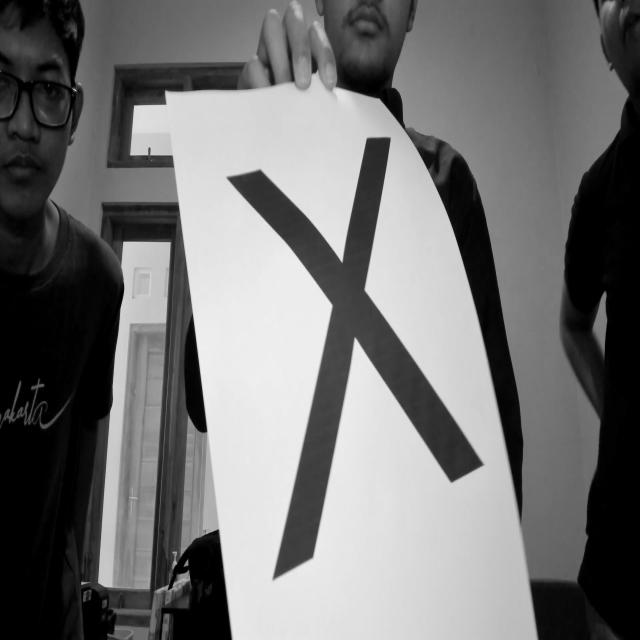x: (222, 116, 492, 598)
